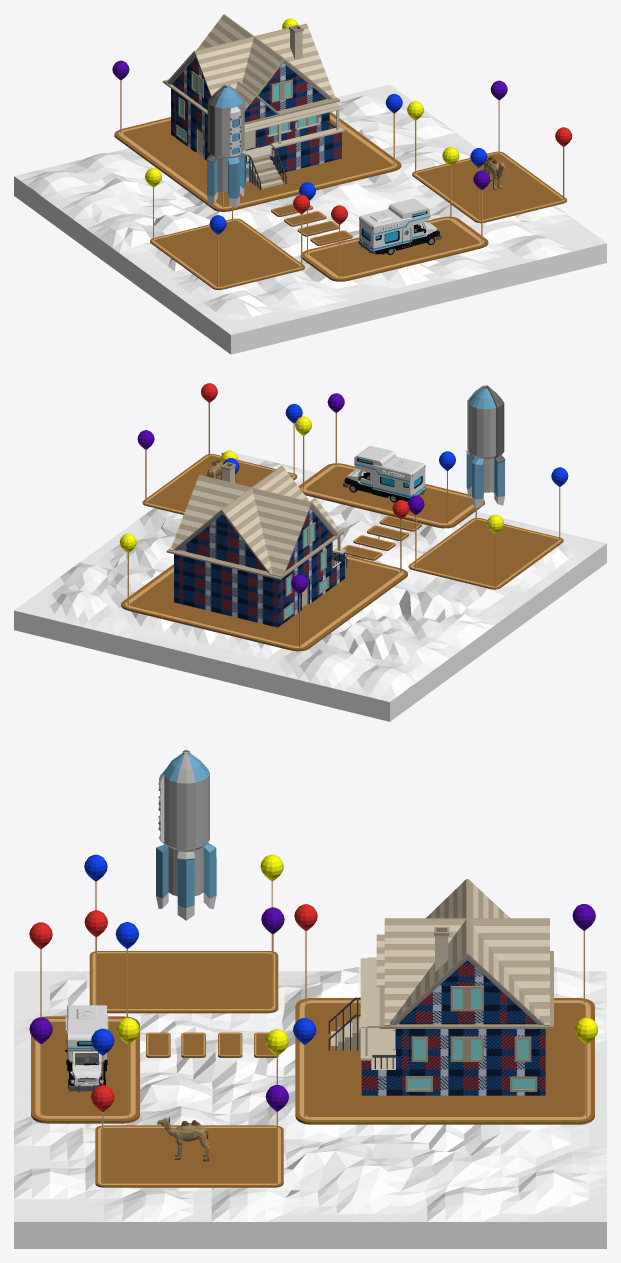
The picture shows the model from 3 angles, top to bottom: view 1: azimuth 30°, elevation 25°; view 2: azimuth 150°, elevation 25°; view 3: azimuth 270°, elevation 25°; orthographic projection. The views are drawn at different scales.
Visible parts, largest first — view 1: Cube.013, Cube.171, OBJRANDOM_ROCKETSHIP, VEHICLES_CAMPER; view 2: Cube.013, Cube.171, OBJRANDOM_ROCKETSHIP, VEHICLES_CAMPER; view 3: Cube.013, Cube.171, OBJRANDOM_ROCKETSHIP, VEHICLES_CAMPER, ANIMAL_CAMELLO.
Boxes of the visible parts, left/top/right/bottom form: Cube.013: left=14, top=18, right=606, bottom=354; Cube.171: left=162, top=14, right=344, bottom=190; OBJRANDOM_ROCKETSHIP: left=206, top=84, right=245, bottom=207; VEHICLES_CAMPER: left=358, top=198, right=441, bottom=254; Cube.013: left=14, top=383, right=606, bottom=721; Cube.171: left=166, top=462, right=347, bottom=627; OBJRANDOM_ROCKETSHIP: left=466, top=385, right=505, bottom=508; VEHICLES_CAMPER: left=343, top=446, right=425, bottom=502; Cube.013: left=14, top=854, right=606, bottom=1248; Cube.171: left=328, top=879, right=553, bottom=1095; OBJRANDOM_ROCKETSHIP: left=156, top=750, right=216, bottom=920; VEHICLES_CAMPER: left=65, top=1005, right=108, bottom=1092; ANIMAL_CAMELLO: left=157, top=1116, right=209, bottom=1161.
Bounding box in the file's own units: 4000 × 2152 × 4000.
34 materials, 3 textured.
